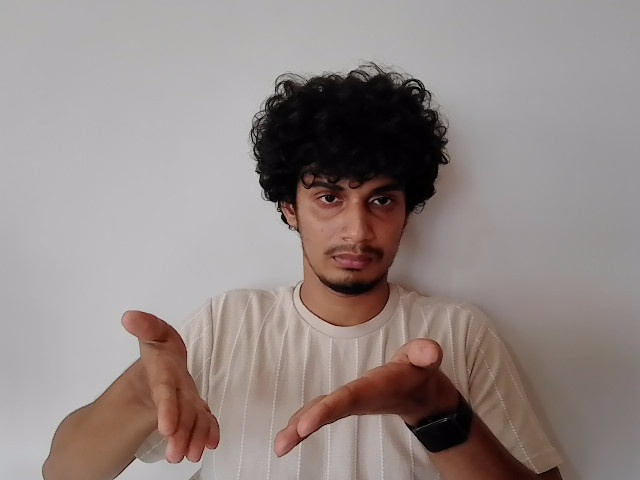here: (117, 311, 448, 450)
